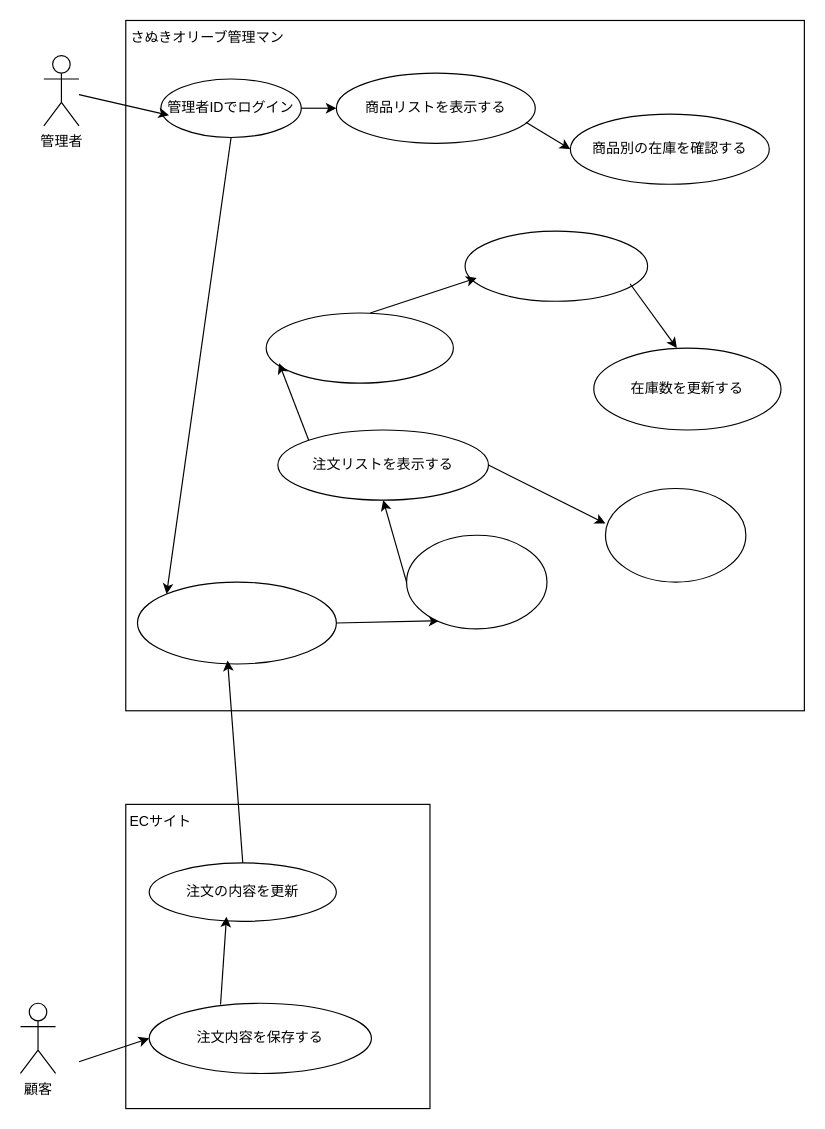
The diagram is 825 pixels wide and 1129 high, and some of its shapes have lost their labels. The centre of each missing label's shape, as x and y in pixels:
ECサイトのCSVを読み込む: the point at 236,622
受注ステータスを更新する: the point at 556,265
売り上げを表示する: the point at 675,534
注文内容を確認する: the point at 359,347
注文情報・顧客情報を保存する: the point at 476,581
